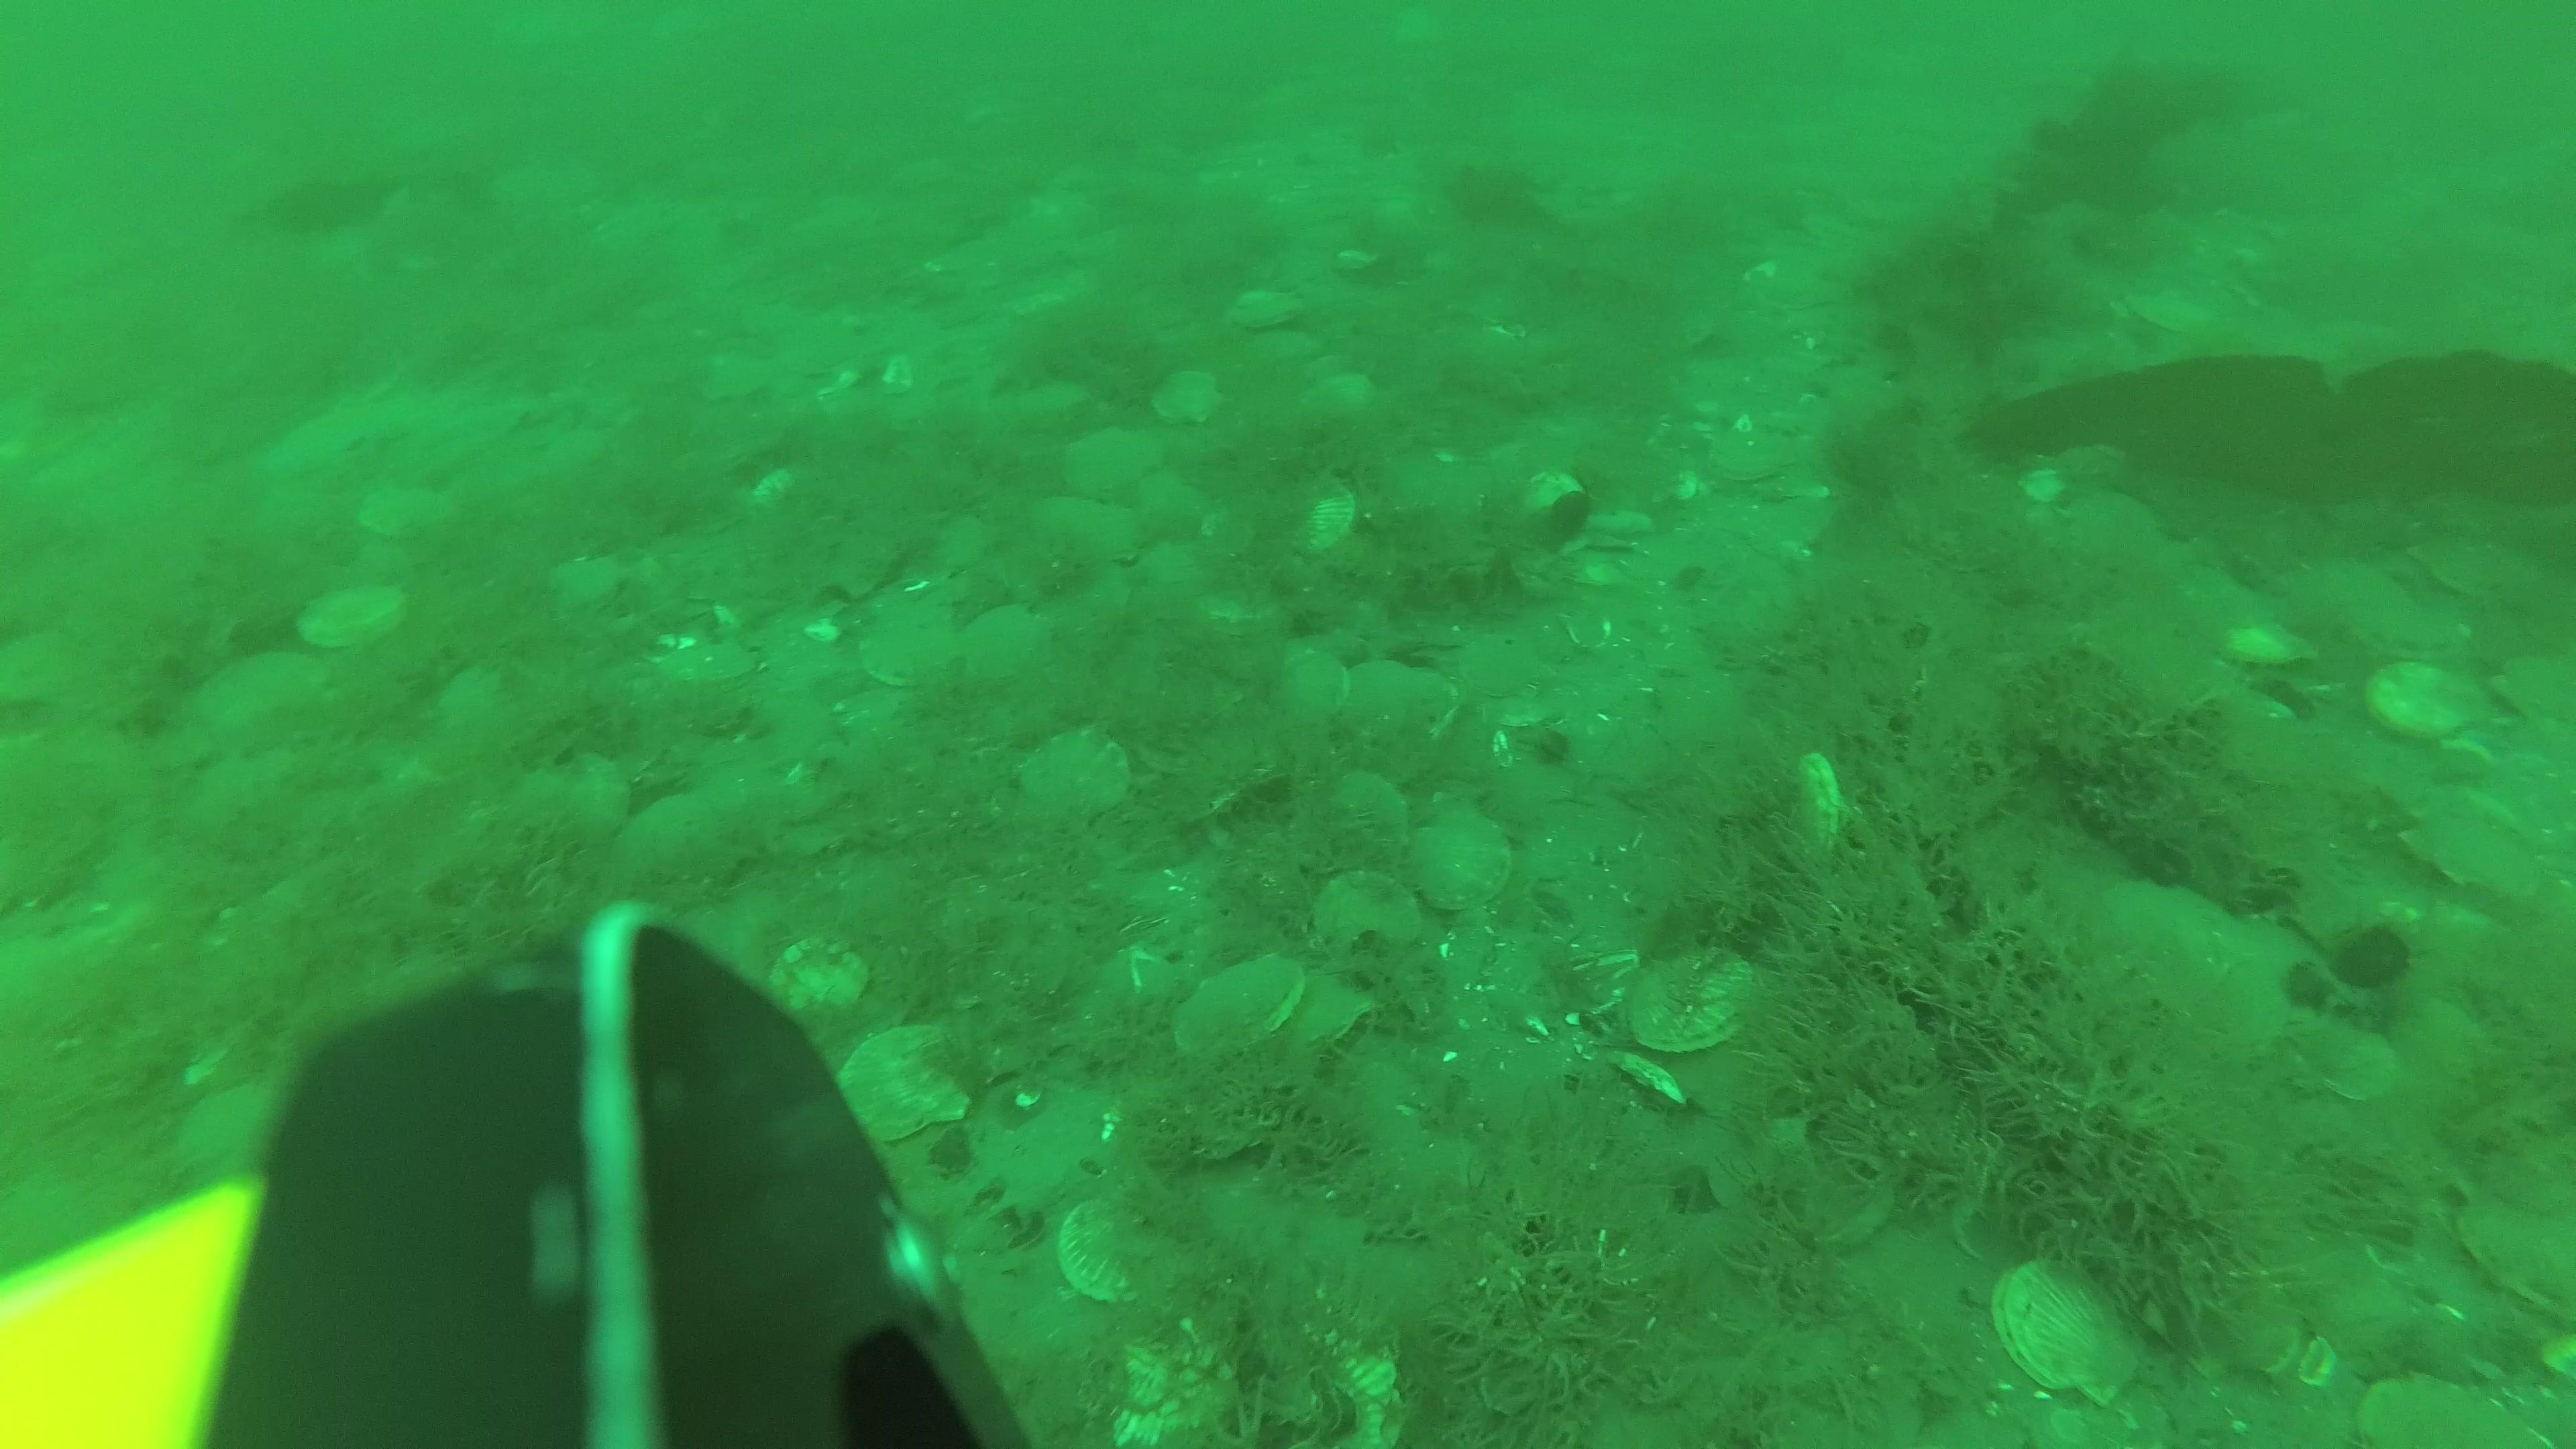scallop: (2088, 879, 2323, 1067), (2001, 1254, 2155, 1408), (855, 1033, 970, 1164), (1633, 948, 1762, 1063), (2401, 801, 2542, 902), (1065, 1194, 1175, 1307), (1019, 724, 1138, 828), (1339, 667, 1451, 775), (1414, 805, 1518, 915), (2364, 649, 2482, 745), (1180, 964, 1292, 1063), (1316, 869, 1428, 964), (1322, 768, 1419, 872), (1254, 980, 1352, 1076), (1258, 644, 1355, 736), (771, 931, 863, 1023), (209, 653, 317, 731), (855, 612, 954, 694), (1272, 472, 1362, 554), (669, 630, 761, 708), (1070, 423, 1162, 497), (964, 600, 1053, 676), (1035, 492, 1129, 563), (1704, 425, 1794, 492), (310, 589, 402, 655), (361, 485, 448, 548), (1154, 361, 1215, 430)
